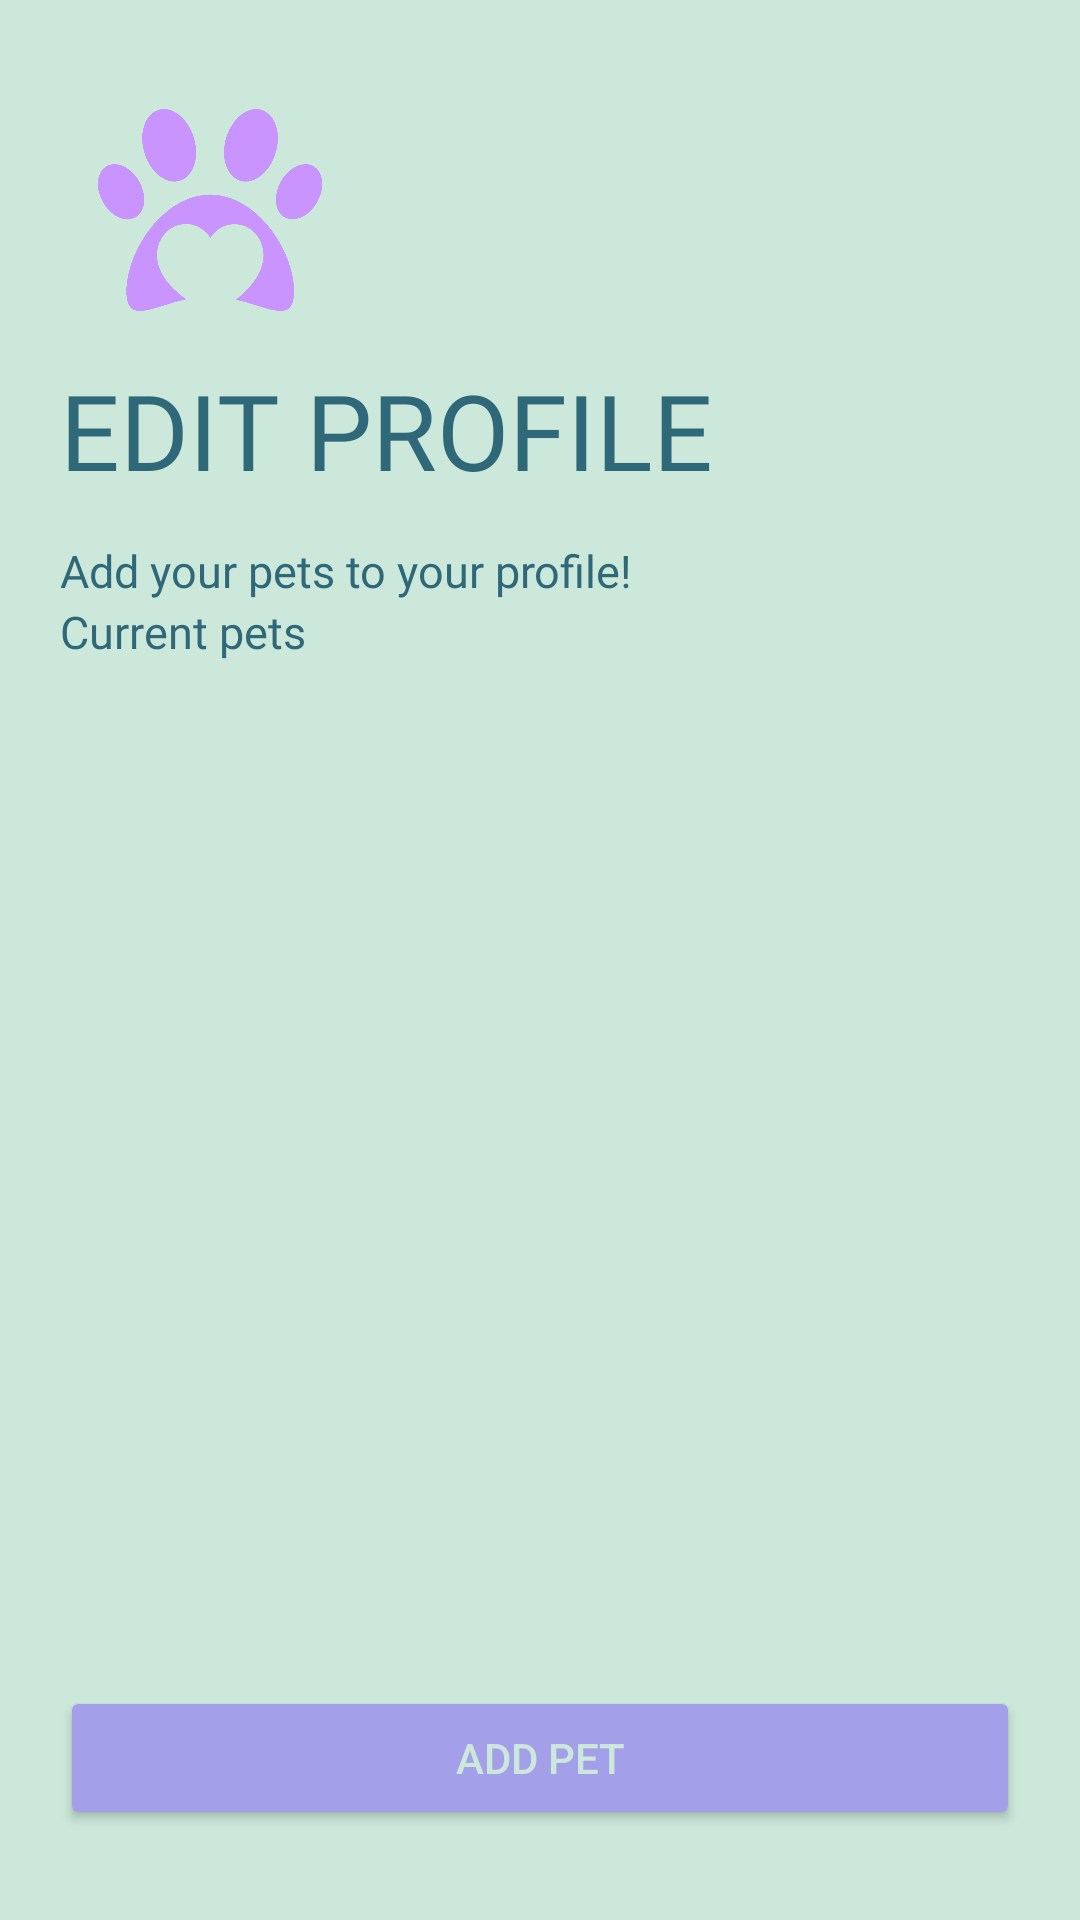

Screen size 1080 x 1920. Icon name, then its center in pixels as [x,y]:
paw: [210,210]
